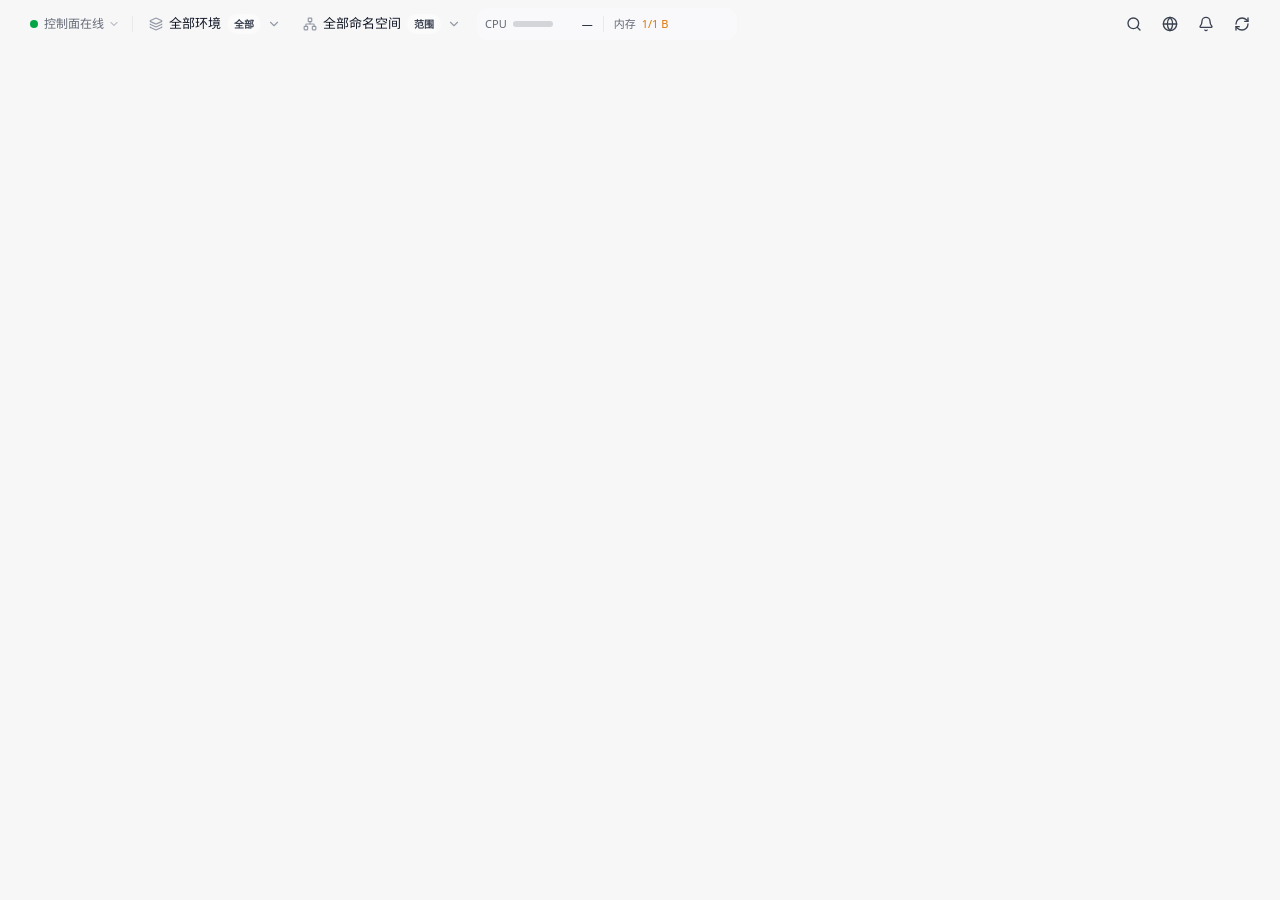
Test case: 页眉工具 FR-193～196 › 搜索按钮可点并打开命令面板
Click the button named "搜索" at {"x": 1134, "y": 24}, box [1118, 8, 1150, 40]
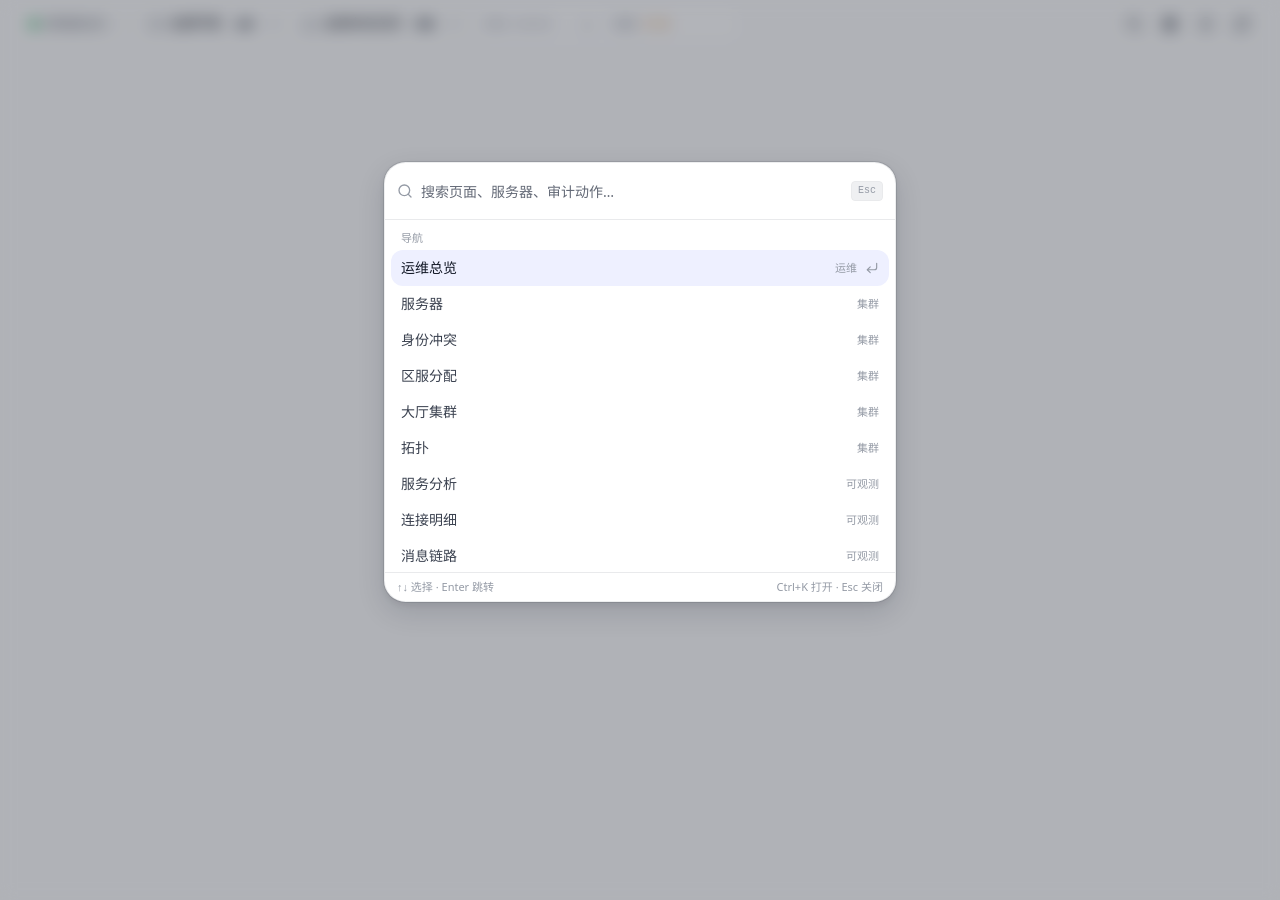
Check: the list named "全局搜索" is shown, box [385, 220, 895, 572]
Check: the field labelled "搜索页面、服务器、审计动作…" is shown, box [421, 173, 843, 209]
